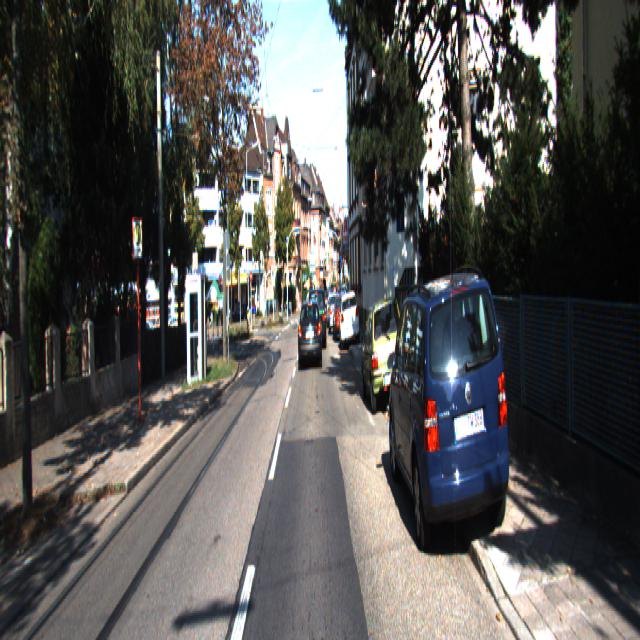Car: (386, 266, 515, 581), (360, 298, 407, 422), (298, 300, 322, 374), (338, 290, 359, 352), (308, 288, 326, 352), (332, 297, 351, 348)
